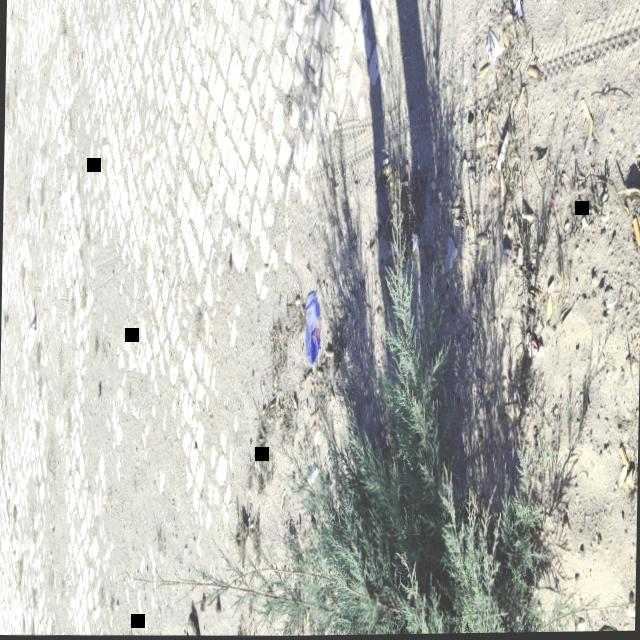Cigarette: (631, 219, 640, 249), (618, 446, 628, 467), (484, 114, 490, 148), (527, 67, 539, 82), (410, 233, 417, 253), (474, 136, 484, 150), (313, 425, 319, 441), (381, 166, 389, 175), (414, 238, 419, 252), (305, 371, 311, 382), (381, 158, 388, 166), (324, 351, 332, 357), (260, 409, 264, 416)
Drink can: (304, 292, 320, 366)
Normal paper: (26, 303, 34, 348)
Other plastic: (514, 1, 521, 17)
Unlabeled litter: (495, 130, 507, 173), (484, 34, 501, 62), (523, 335, 542, 359), (622, 612, 635, 624), (50, 413, 52, 423)
